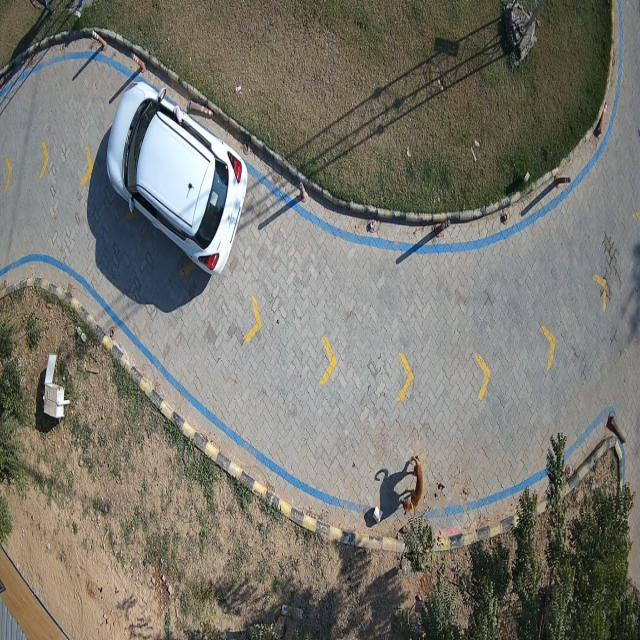car: (104, 84, 246, 278)
